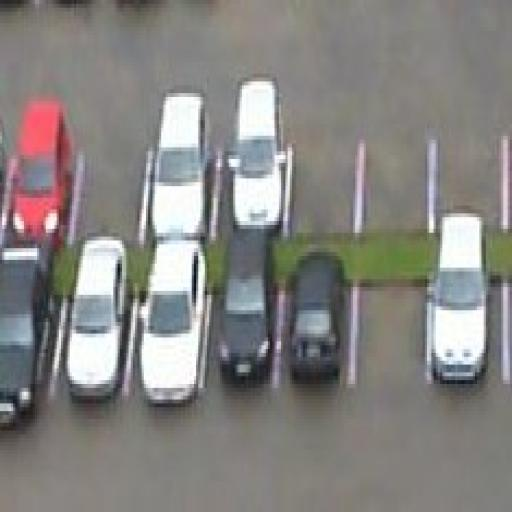car: (0, 237, 59, 438), (139, 237, 207, 407), (7, 97, 76, 248), (68, 236, 128, 400), (434, 209, 490, 384), (152, 90, 212, 244), (218, 229, 274, 388), (229, 78, 285, 232), (290, 252, 346, 392)
